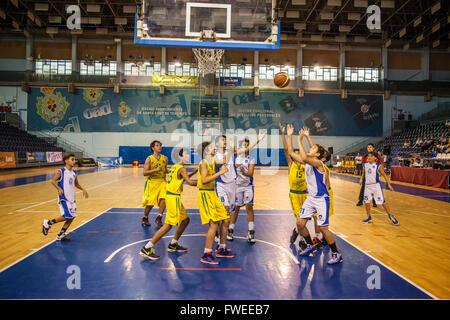basketball: (273, 72, 290, 86)
